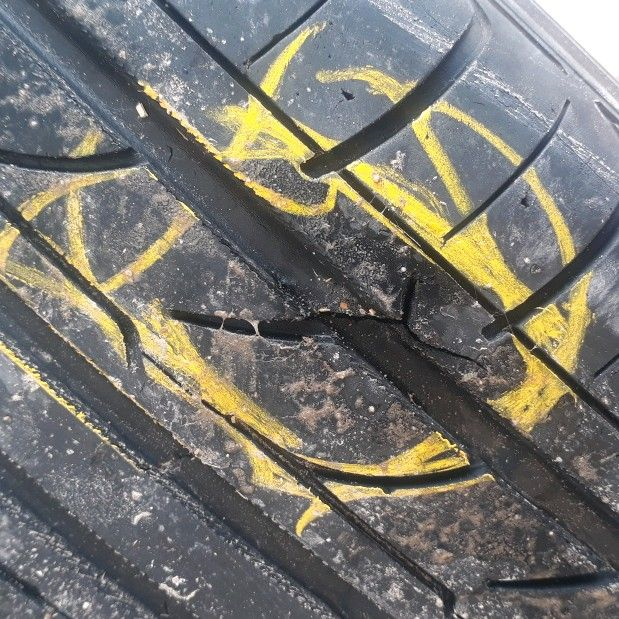tr: (315, 269, 501, 377)
